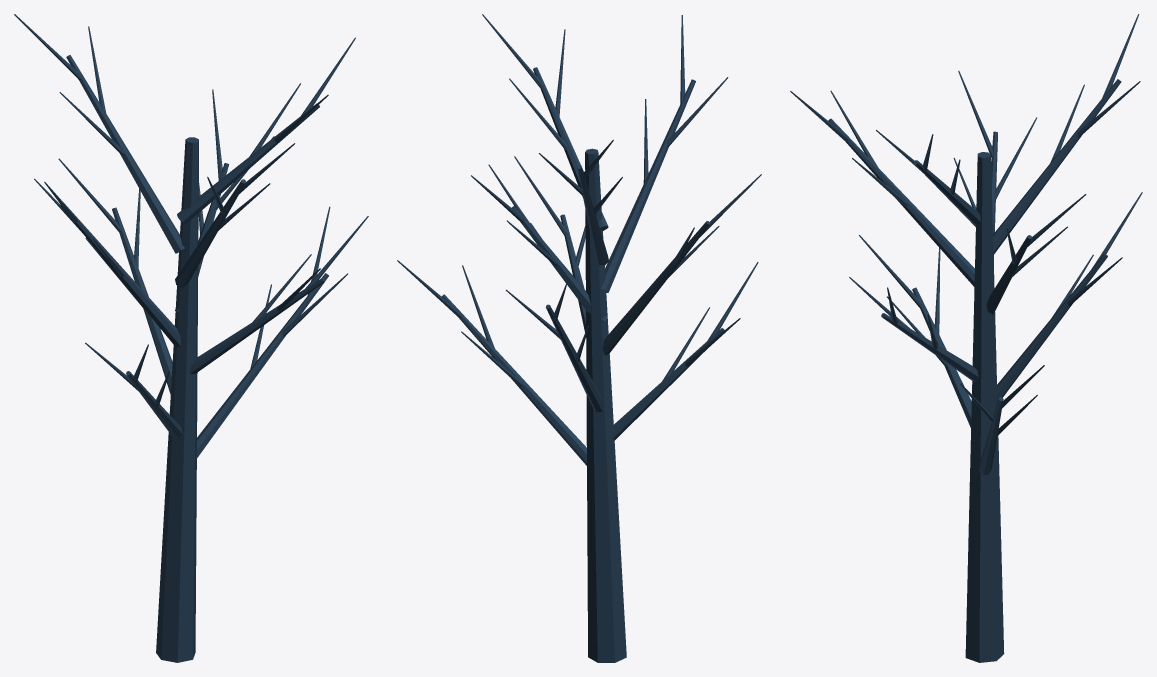
The model's file is tree_13.glb.
The picture shows the model from 3 angles, left to right: view 1: azimuth 30°, elevation 25°; view 2: azimuth 150°, elevation 25°; view 3: azimuth 270°, elevation 25°; orthographic projection. The views are drawn at different scales.
Parts seen in each view (by area): view 1: tree_13; view 2: tree_13; view 3: tree_13.
Part boxes in pixels (x1,y1,x2,y2): tree_13: (14,14,368,662); tree_13: (397,14,761,662); tree_13: (790,14,1142,662).
Bounding box in the file's own units: 2.43 × 4.26 × 2.27.
